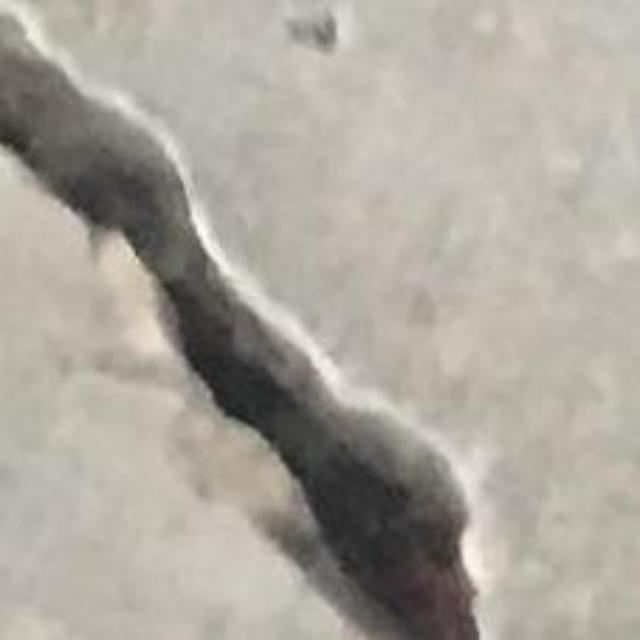crack: (0, 9, 482, 639)
